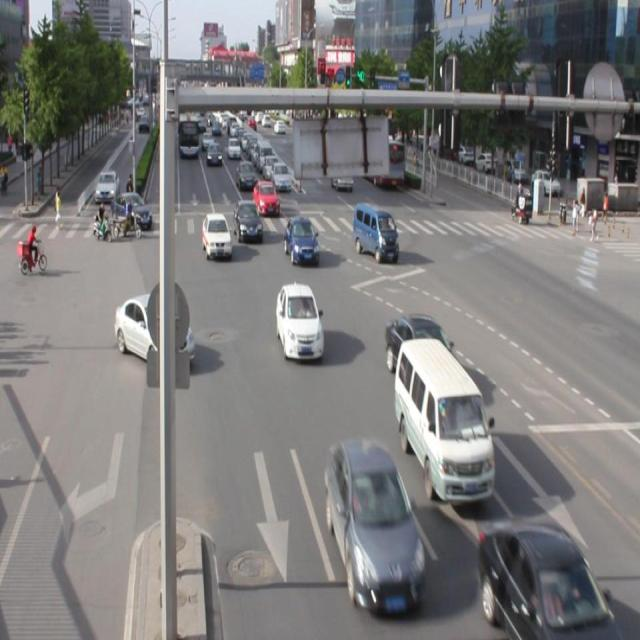car: (324, 437, 423, 613), (474, 518, 612, 640), (116, 292, 196, 370), (386, 313, 459, 393), (276, 282, 323, 359), (286, 216, 320, 266), (202, 213, 231, 259), (233, 200, 262, 240)
truck: (395, 338, 493, 502), (353, 204, 397, 262)
